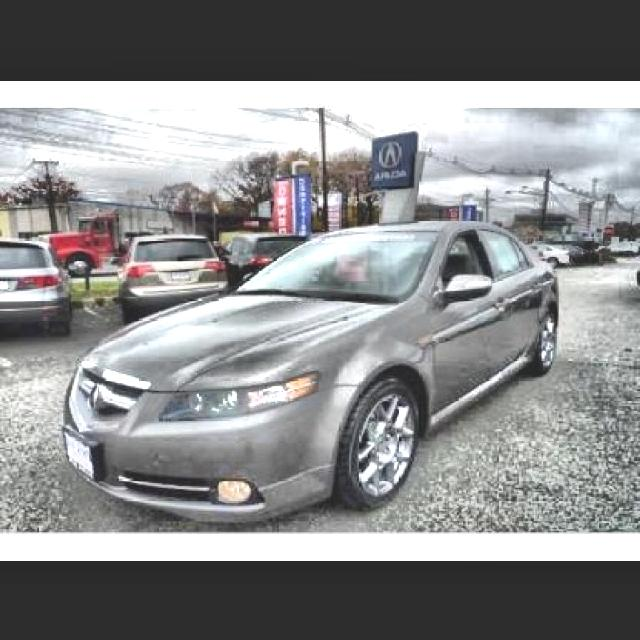silver: (55, 219, 558, 519)
